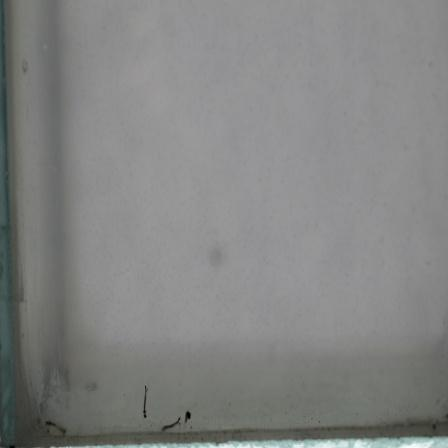Jentik-Nyamuk: (158, 408, 193, 433), (138, 383, 153, 422)
